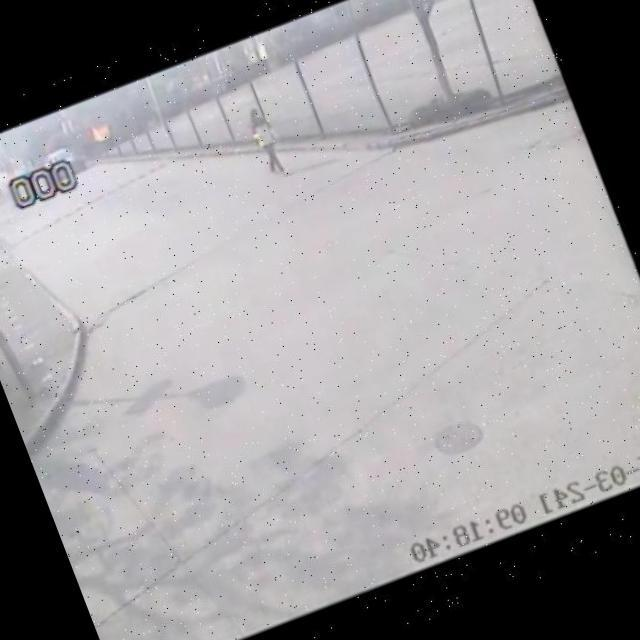person: (230, 86, 304, 190)
